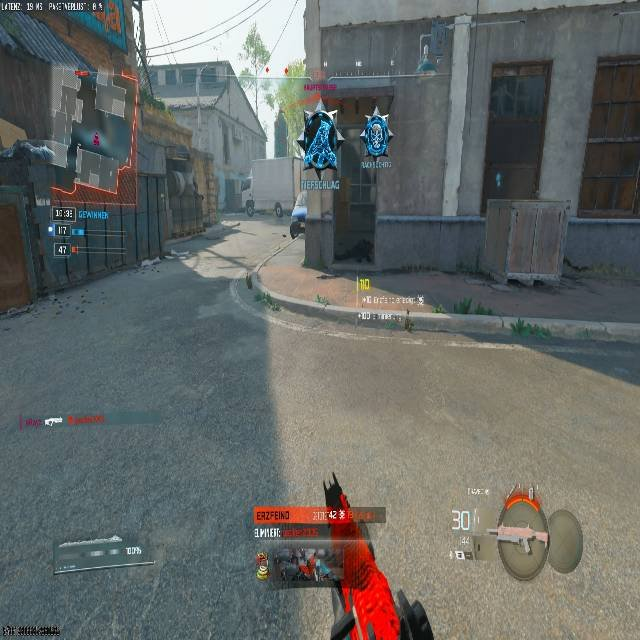player: (300, 101, 340, 172), (362, 110, 390, 161), (287, 205, 308, 239), (245, 197, 255, 216), (273, 201, 282, 219)
